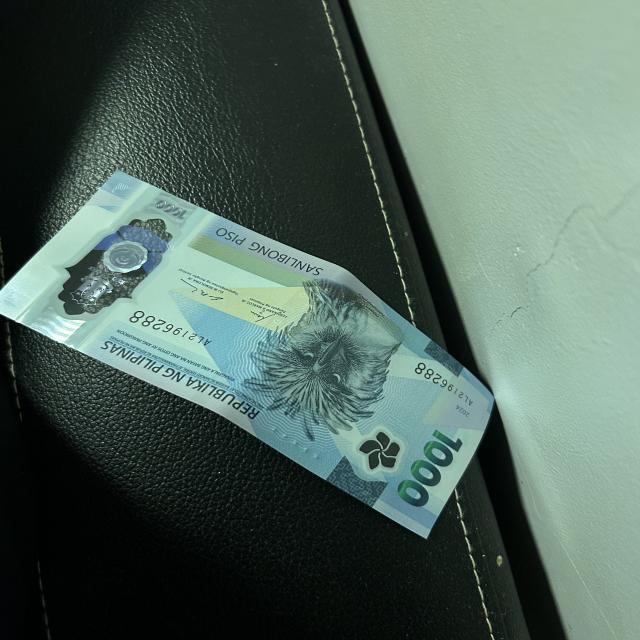clear_window: (52, 212, 177, 326)
eagle: (256, 284, 404, 434)
sampaguita: (358, 428, 401, 470)
